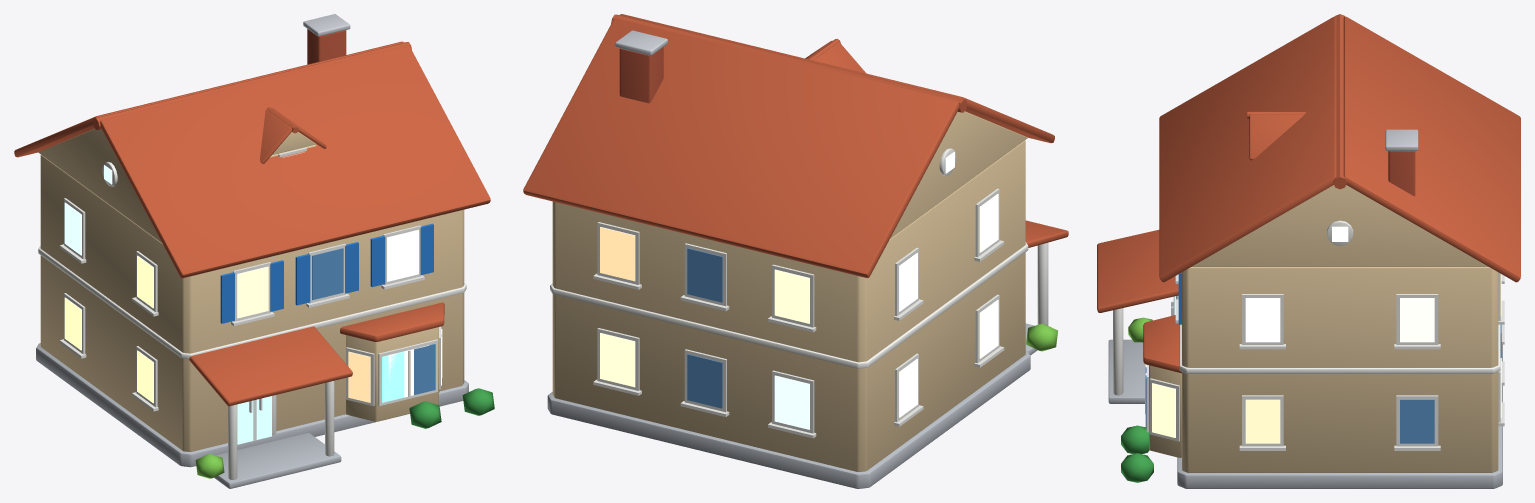
The model's file is sobrado_bege.glb.
3 views of the same model, side by side, from view 1: azimuth 30°, elevation 25°; view 2: azimuth 150°, elevation 25°; view 3: azimuth 270°, elevation 25° (orthographic). The views are drawn at different scales.
Visible parts, largest first — view 1: sobrado_bege; view 2: sobrado_bege; view 3: sobrado_bege.
Part boxes in pixels (x1,y1,x2,y2): sobrado_bege: (14,14,494,488); sobrado_bege: (523,14,1068,488); sobrado_bege: (1097,14,1520,488).
Size of the model in its own units: 10 by 9.45 by 10.98.
Materials: 7 (1 with a texture image).
